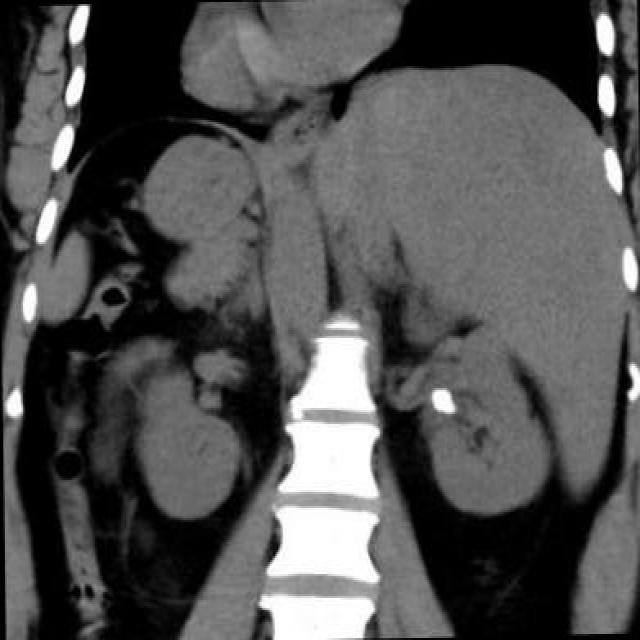Tas_Var: (423, 384, 456, 422)
